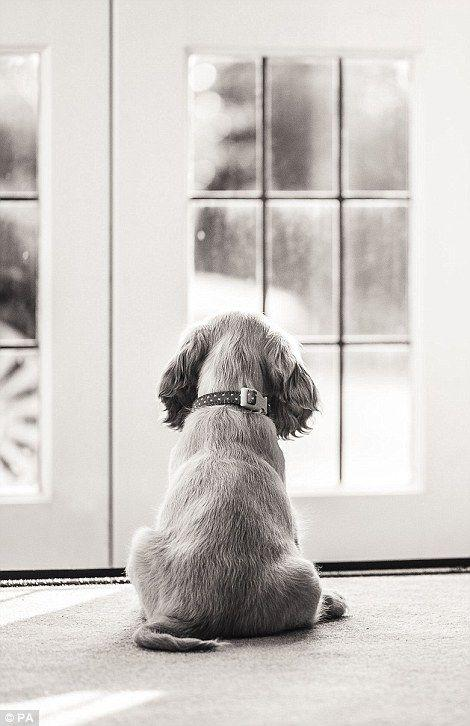puppy-dog: (125, 311, 349, 654)
